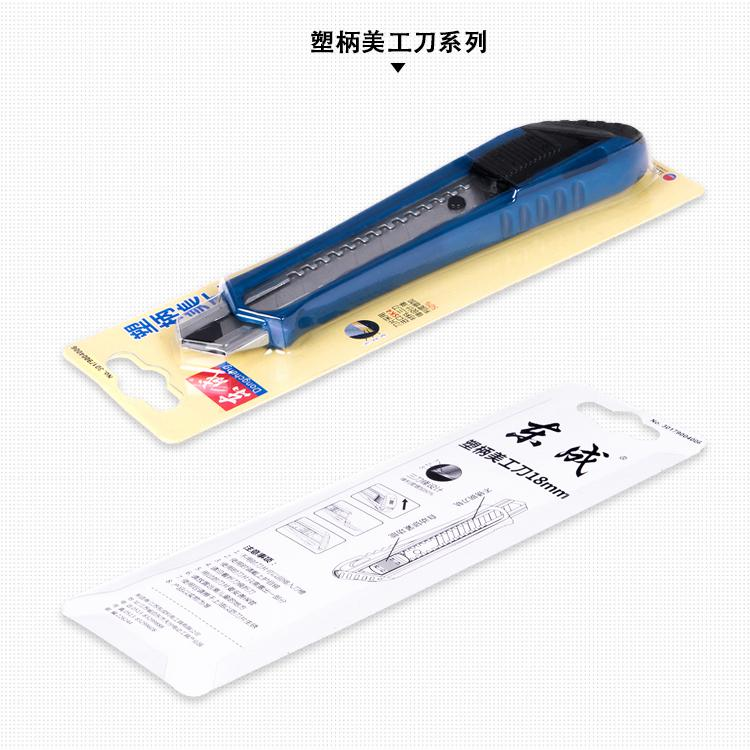cutter: (178, 118, 650, 357)
